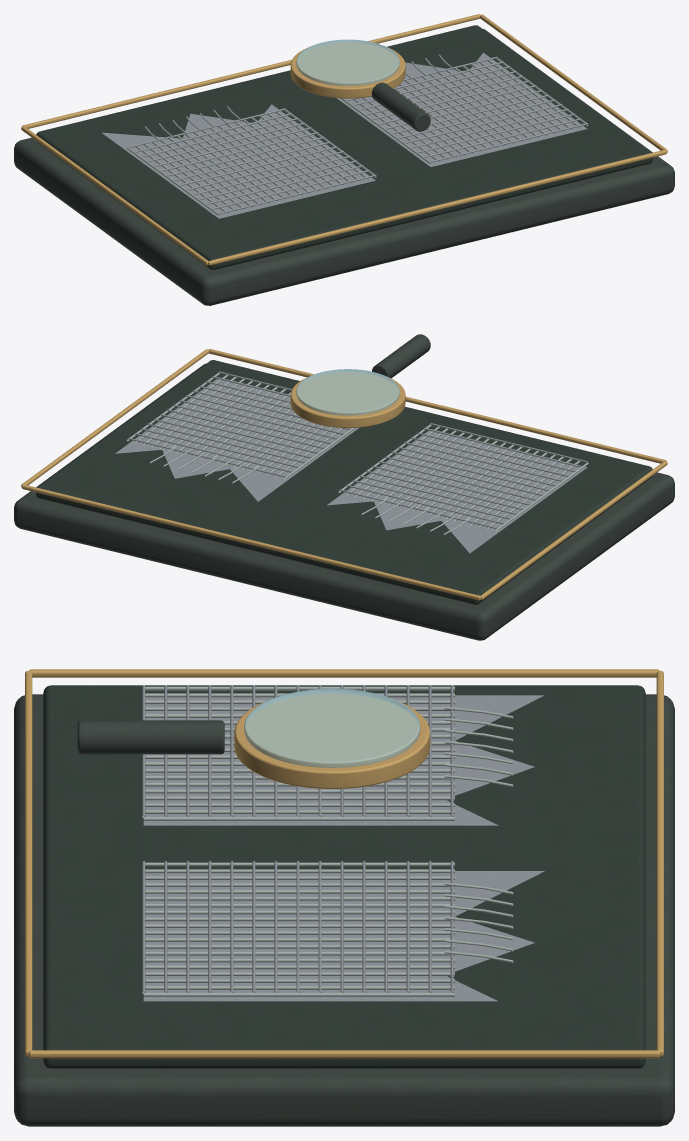
Rendered from scarf-samples.glb.
3 renders of one model, top to bottom at view 1: azimuth 30°, elevation 25°; view 2: azimuth 150°, elevation 25°; view 3: azimuth 270°, elevation 25°, orthographic. The views are drawn at different scales.
Parts seen in each view (by area): view 1: felt_insert, display_base, fiber_sample, torn_edge, weave_zoom, zoom_glass, brass_rim_Front, brass_rim_Back, magnifier_handle, brass_rim_Left, brass_rim_Right; view 2: felt_insert, display_base, fiber_sample, torn_edge, weave_zoom, zoom_glass, brass_rim_Back, brass_rim_Front, brass_rim_Left, brass_rim_Right, magnifier_handle; view 3: felt_insert, display_base, torn_edge, fiber_sample, weave_zoom, zoom_glass, brass_rim_Right, brass_rim_Left, magnifier_handle, brass_rim_Back, brass_rim_Front, fiber_sample_warp16 (+29 smaller).
Part boxes in pixels (bbox=[...]): felt_insert: bbox=[36, 25, 652, 269]; display_base: bbox=[14, 29, 674, 305]; fiber_sample: bbox=[102, 104, 375, 218]; torn_edge: bbox=[336, 53, 587, 166]; weave_zoom: bbox=[290, 42, 405, 98]; zoom_glass: bbox=[296, 39, 399, 85]; brass_rim_Front: bbox=[208, 150, 666, 265]; brass_rim_Back: bbox=[22, 14, 480, 128]; magnifier_handle: bbox=[371, 82, 430, 131]; brass_rim_Left: bbox=[21, 126, 208, 265]; brass_rim_Right: bbox=[480, 14, 667, 152]; felt_insert: bbox=[36, 360, 652, 604]; display_base: bbox=[14, 363, 674, 640]; fiber_sample: bbox=[327, 429, 587, 553]; torn_edge: bbox=[115, 377, 358, 501]; weave_zoom: bbox=[290, 372, 405, 427]; zoom_glass: bbox=[296, 369, 399, 415]; brass_rim_Back: bbox=[22, 484, 480, 600]; brass_rim_Front: bbox=[208, 349, 666, 463]; brass_rim_Left: bbox=[480, 461, 667, 599]; brass_rim_Right: bbox=[21, 349, 208, 487]; magnifier_handle: bbox=[372, 334, 430, 378]; felt_insert: bbox=[43, 685, 645, 1068]; display_base: bbox=[14, 694, 674, 1126]; torn_edge: bbox=[143, 871, 544, 1001]; fiber_sample: bbox=[143, 695, 544, 825]; weave_zoom: bbox=[234, 693, 430, 788]; zoom_glass: bbox=[244, 688, 420, 767]; brass_rim_Right: bbox=[28, 1050, 660, 1058]; brass_rim_Left: bbox=[29, 669, 659, 677]; magnifier_handle: bbox=[77, 720, 224, 754]; brass_rim_Back: bbox=[656, 671, 663, 1056]; brass_rim_Front: bbox=[25, 671, 32, 1056]; fiber_sample_warp16: bbox=[145, 796, 454, 800].
Bounding box in the file's own units: 0.38 × 0.096 × 0.27.
Materials: 6 (3 with a texture image).
